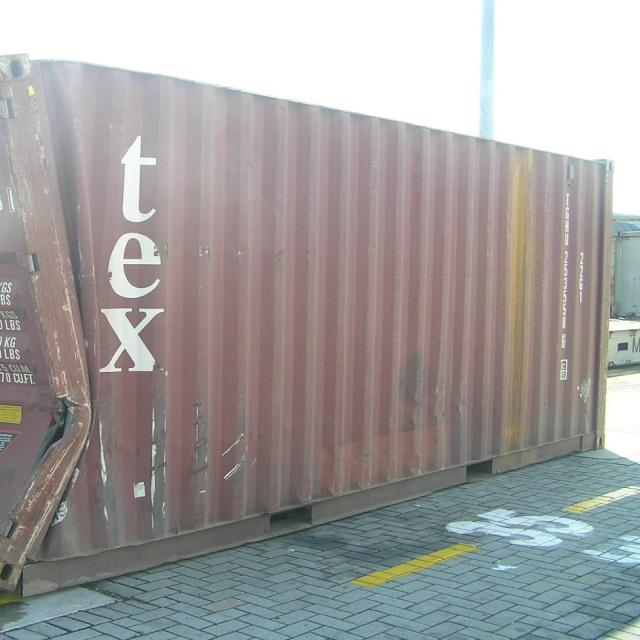dent: (1, 61, 129, 628)
